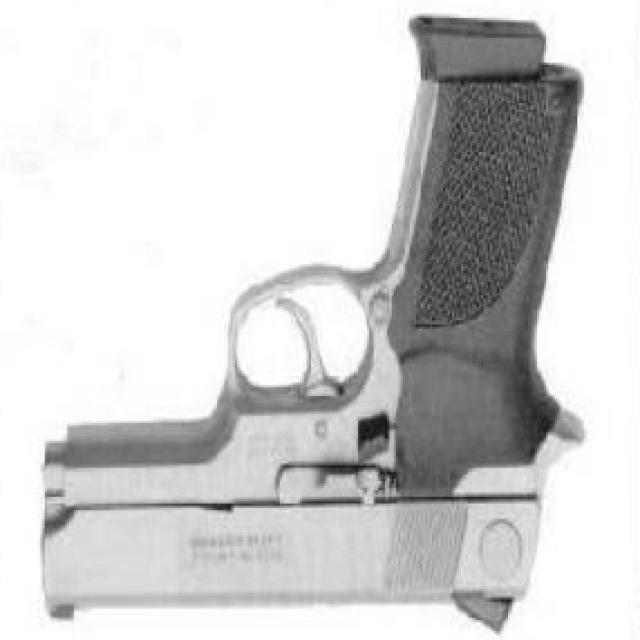pistol: (41, 8, 596, 631)
